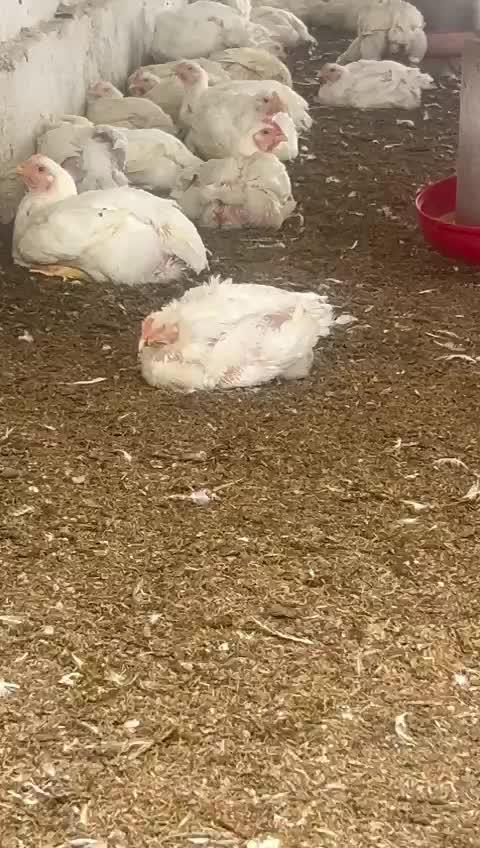AbNormal: (142, 274, 333, 390), (41, 115, 127, 176), (84, 78, 172, 131), (215, 41, 298, 78), (120, 65, 177, 107)
Normal: (15, 146, 207, 279), (175, 120, 294, 230), (169, 56, 322, 131), (315, 45, 444, 111), (342, 0, 430, 63)
